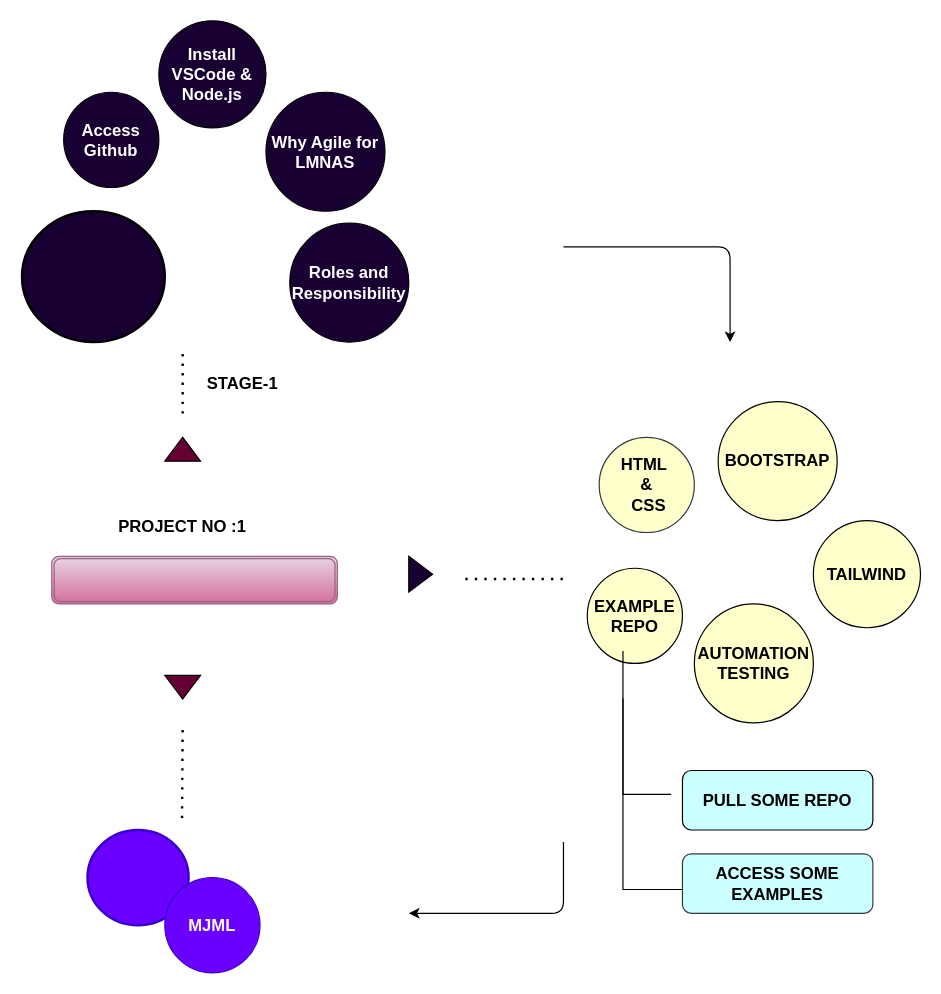
Image size: 941x994. Some labels were removed from this diagram. The shapes that lost their labels are listed below. From the top down, each one's centre as x and y in pixels, then its label:
At [92,276]: "Check your hardware requirements".
At [194,579]: "LMNAS PROJECT".
At [137,877]: "NEXT.JS".
